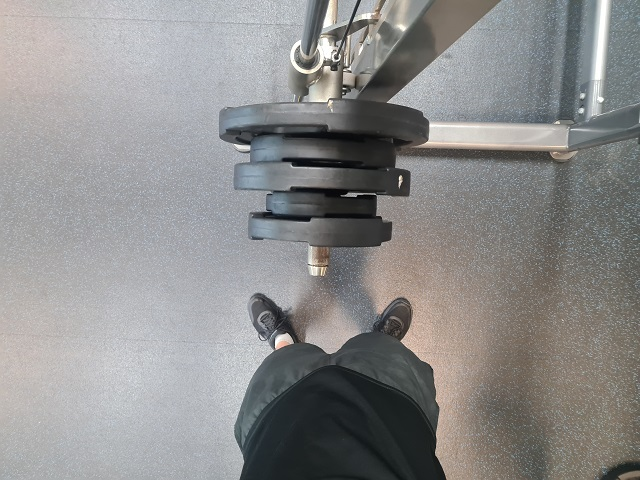weights: (220, 99, 429, 148), (234, 163, 411, 197), (247, 212, 393, 248), (251, 136, 396, 167), (265, 194, 377, 219)
